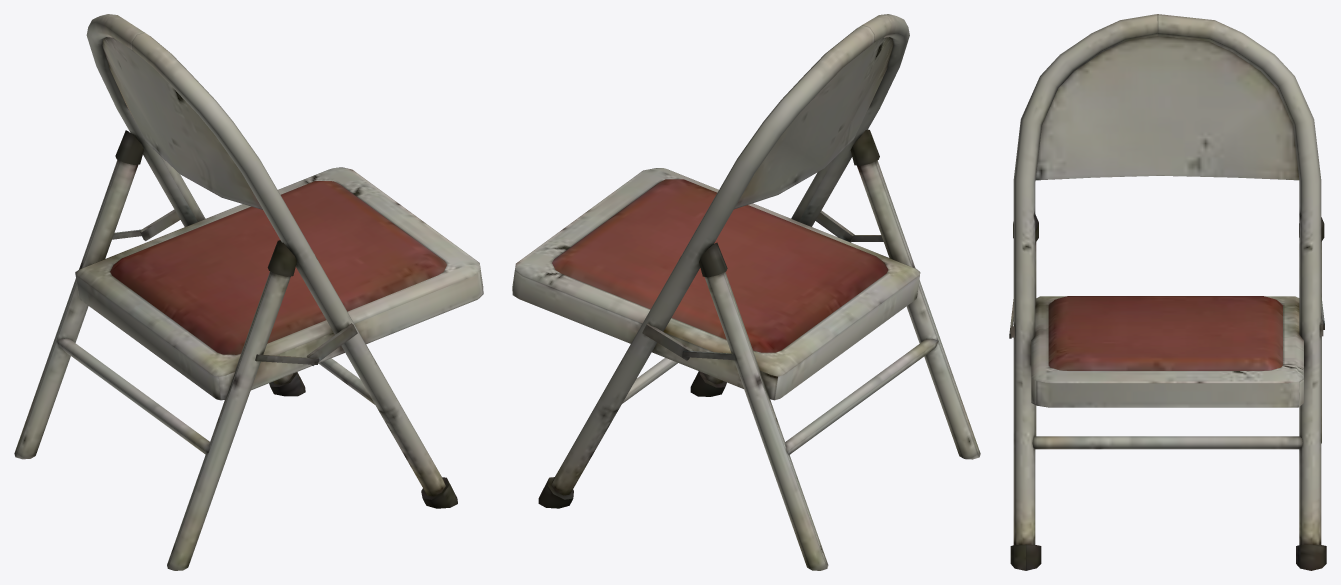
The model's file is controlroom_chair001a.glb.
The picture shows the model from 3 angles, left to right: view 1: azimuth 30°, elevation 25°; view 2: azimuth 150°, elevation 25°; view 3: azimuth 270°, elevation 25°; orthographic projection. The views are drawn at different scales.
Parts seen in each view (by area): view 1: 0_controlroom_chair001a; view 2: 0_controlroom_chair001a; view 3: 0_controlroom_chair001a.
Boxes of the visible parts, left/top/right/bottom form: 0_controlroom_chair001a: left=14, top=14, right=483, bottom=570; 0_controlroom_chair001a: left=512, top=14, right=980, bottom=570; 0_controlroom_chair001a: left=1009, top=14, right=1326, bottom=570.
Bounding box in the file's own units: 0.7279 × 1 × 0.6506.
1 material, 1 textured.
